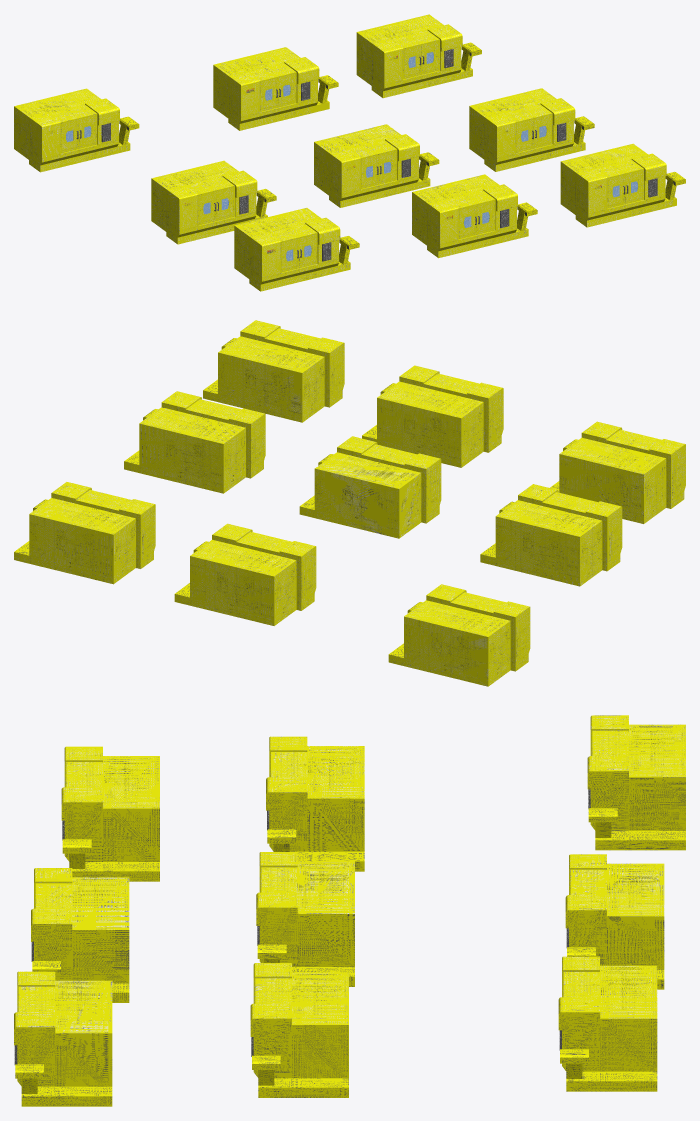
File: CNC.dae
3 renders of one model, top to bottom at view 1: azimuth 30°, elevation 25°; view 2: azimuth 150°, elevation 25°; view 3: azimuth 270°, elevation 25°, orthographic. The views are drawn at different scales.
Visible parts, largest first — view 1: vtc-200c-2 (×9); view 2: vtc-200c-2 (×9); view 3: vtc-200c-2 (×18).
Boxes of the visible parts, <box> form: vtc-200c-2 (×9): <box>14,14,676,291</box>; vtc-200c-2 (×9): <box>14,320,685,686</box>; vtc-200c-2 (×18): <box>14,715,685,1106</box>.
Size of the model in its own units: 948 by 825 by 94.49.
Materials: 6 (3 with a texture image).
